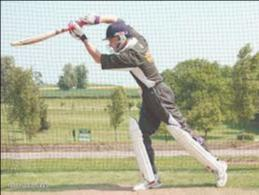batsman: (9, 0, 237, 195)
